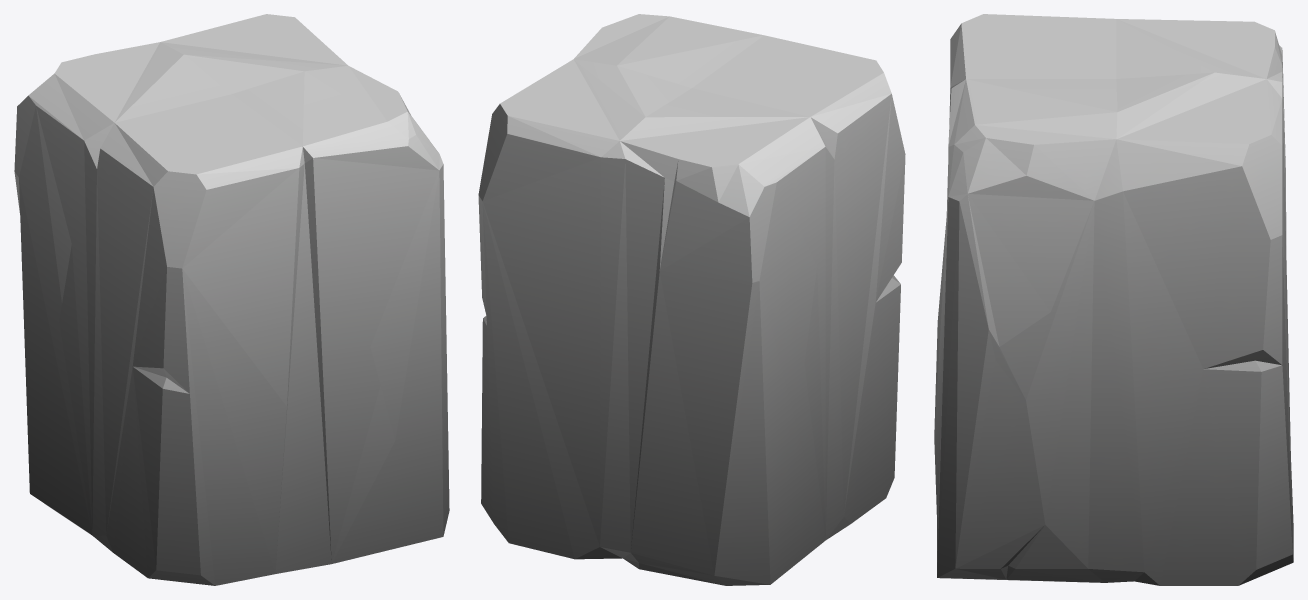
Rendered from rockblock1.glb.
The picture shows the model from 3 angles, left to right: view 1: azimuth 30°, elevation 25°; view 2: azimuth 150°, elevation 25°; view 3: azimuth 270°, elevation 25°; orthographic projection. The views are drawn at different scales.
Parts seen in each view (by area): view 1: RockBlock1_mesh1; view 2: RockBlock1_mesh1; view 3: RockBlock1_mesh1.
Part boxes in pixels (box(x1,y1,x2,y2)): RockBlock1_mesh1: box(14, 14, 449, 585); RockBlock1_mesh1: box(478, 14, 905, 585); RockBlock1_mesh1: box(934, 14, 1293, 585).
Bounding box in the file's own units: 0.9109 × 1.25 × 0.9227.
Materials: 1 (1 with a texture image).
